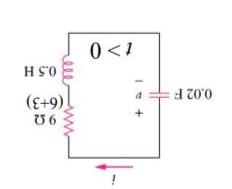inductor: (56, 49, 74, 88)
